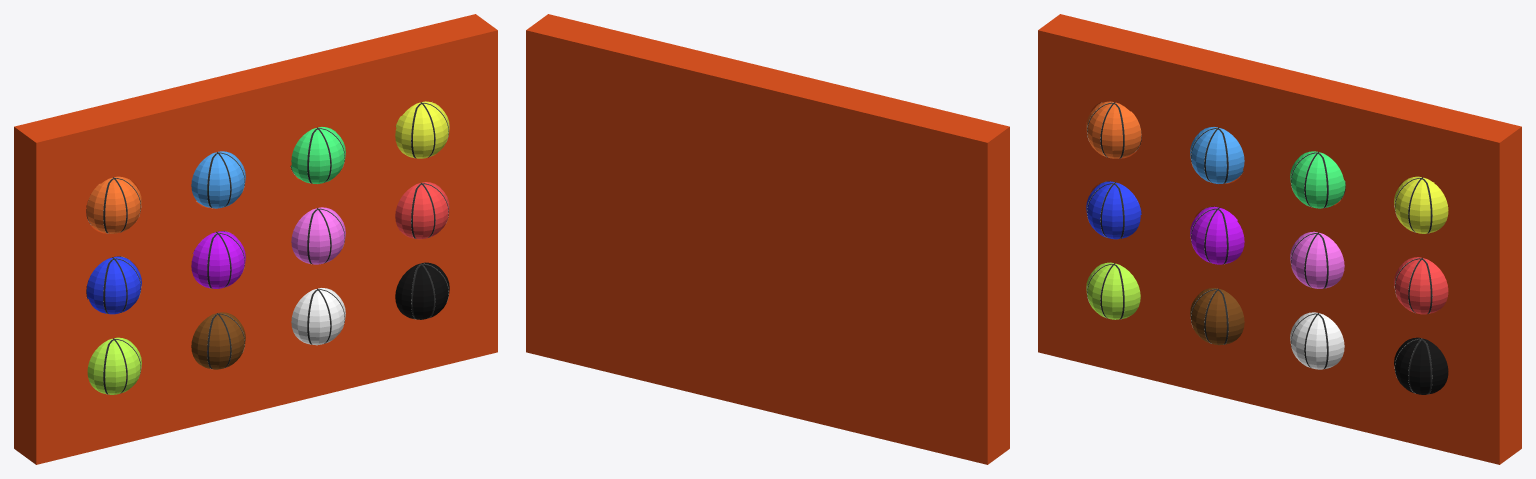
Rendered from BasketBallWallV2.fbx.
The picture shows the model from 3 angles, left to right: view 1: azimuth 30°, elevation 25°; view 2: azimuth 150°, elevation 25°; view 3: azimuth 330°, elevation 25°; orthographic projection.
Parts seen in each view (by area): view 1: BasketballWall, BasketballBalls; view 2: BasketballWall; view 3: BasketballWall, BasketballBalls.
Boxes of the visible parts, left/top/right/bottom form: BasketballWall: left=14, top=14, right=497, bottom=464; BasketballBalls: left=86, top=101, right=449, bottom=394; BasketballWall: left=526, top=14, right=1009, bottom=464; BasketballWall: left=1038, top=14, right=1521, bottom=464; BasketballBalls: left=1086, top=101, right=1448, bottom=394.
Size of the model in its own units: 600 by 400 by 81.24.
3 materials, 1 textured.
